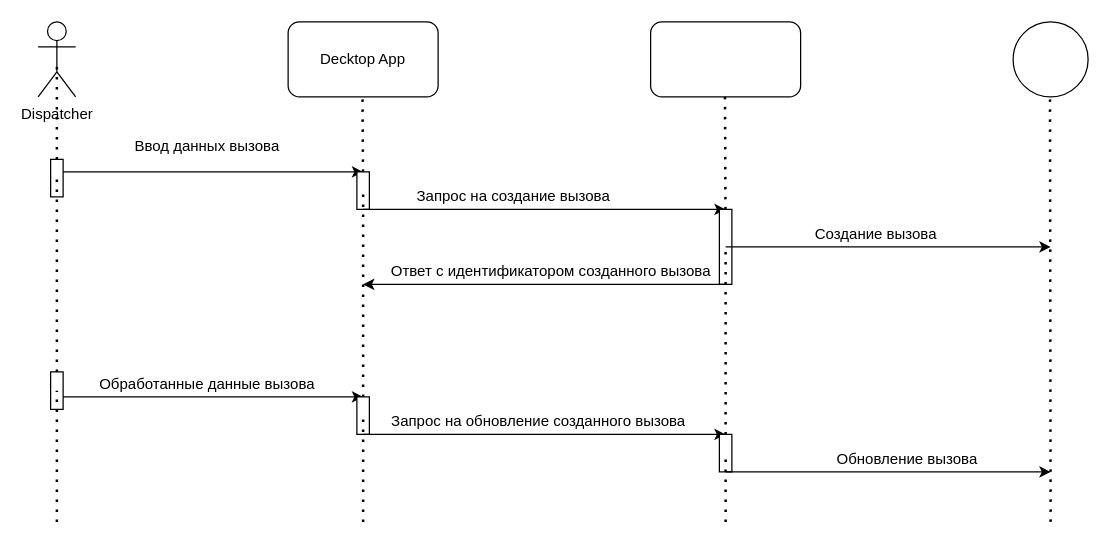
Some shapes in this 1110 by 546 pixel diagram are drawn without their labels. The centre of each missing label's shape, as x and y in pixels:
"Call" belongs at [1050,59].
"CallAPI" belongs at [725,59].
